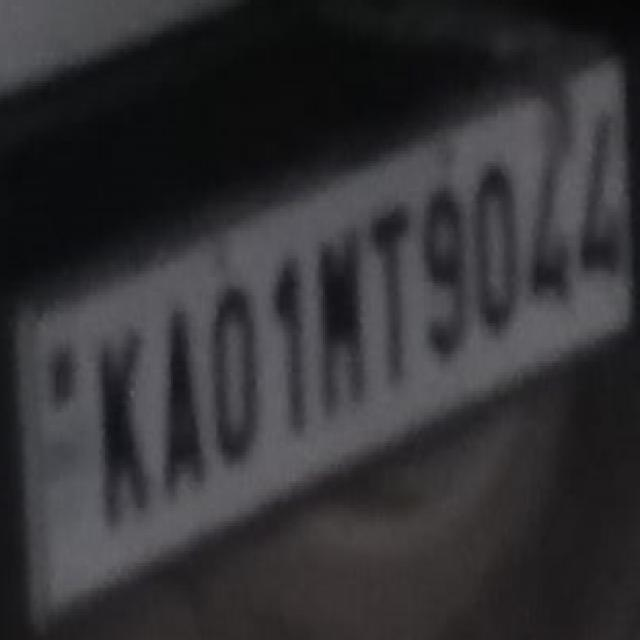0: (213, 278, 260, 494), (474, 153, 520, 339)
1: (263, 248, 315, 455)
4: (525, 122, 576, 317), (581, 102, 630, 302)
9: (416, 170, 474, 368)
A: (156, 302, 212, 508)
K: (96, 314, 154, 540)
M: (314, 224, 367, 437)
T: (368, 189, 414, 408)
